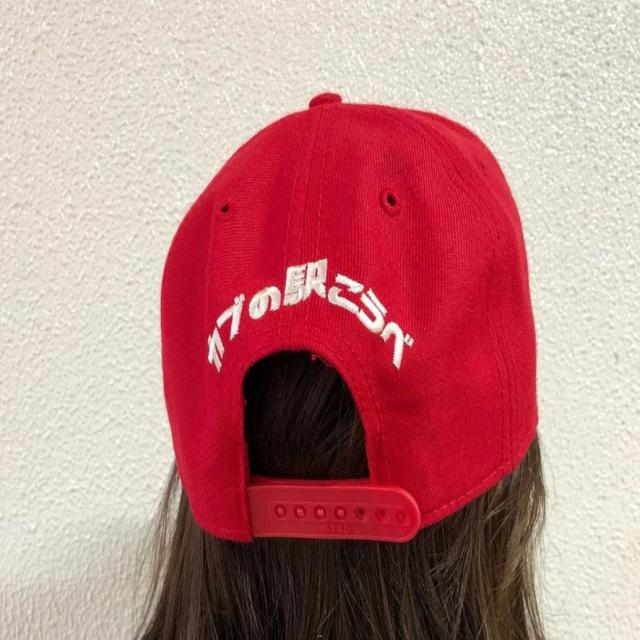illegal_helmet: (151, 80, 545, 640)
